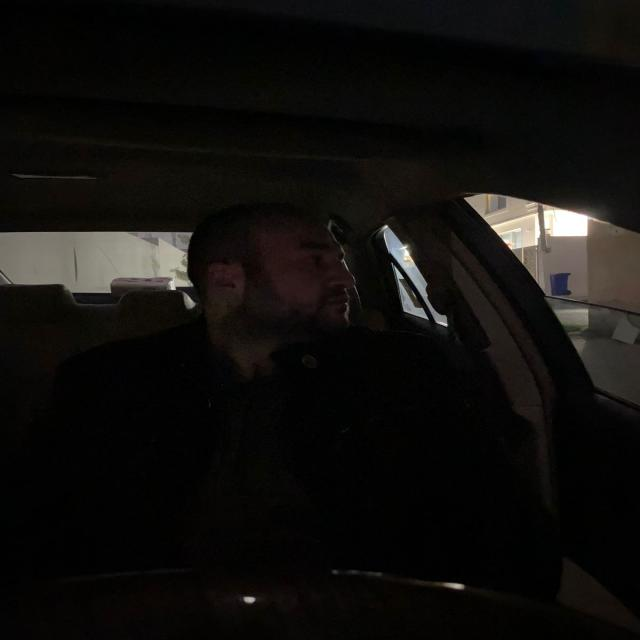LeftRight: (175, 207, 372, 346)
